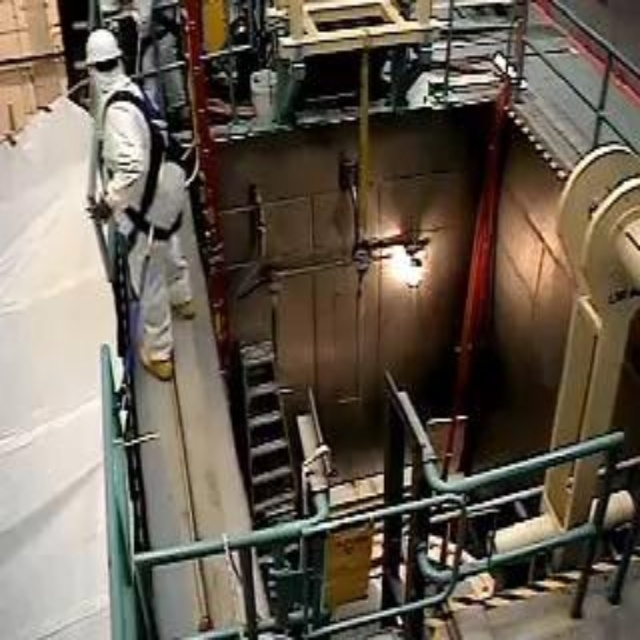Arnes_seguridad: (104, 80, 198, 249)
